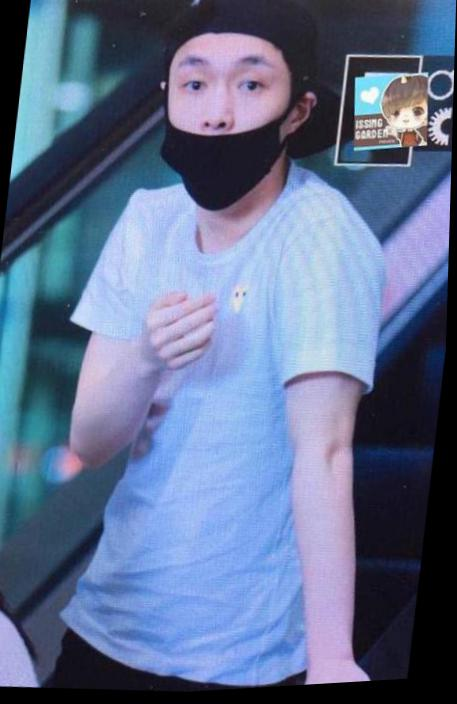WRONG: (152, 33, 297, 221)
